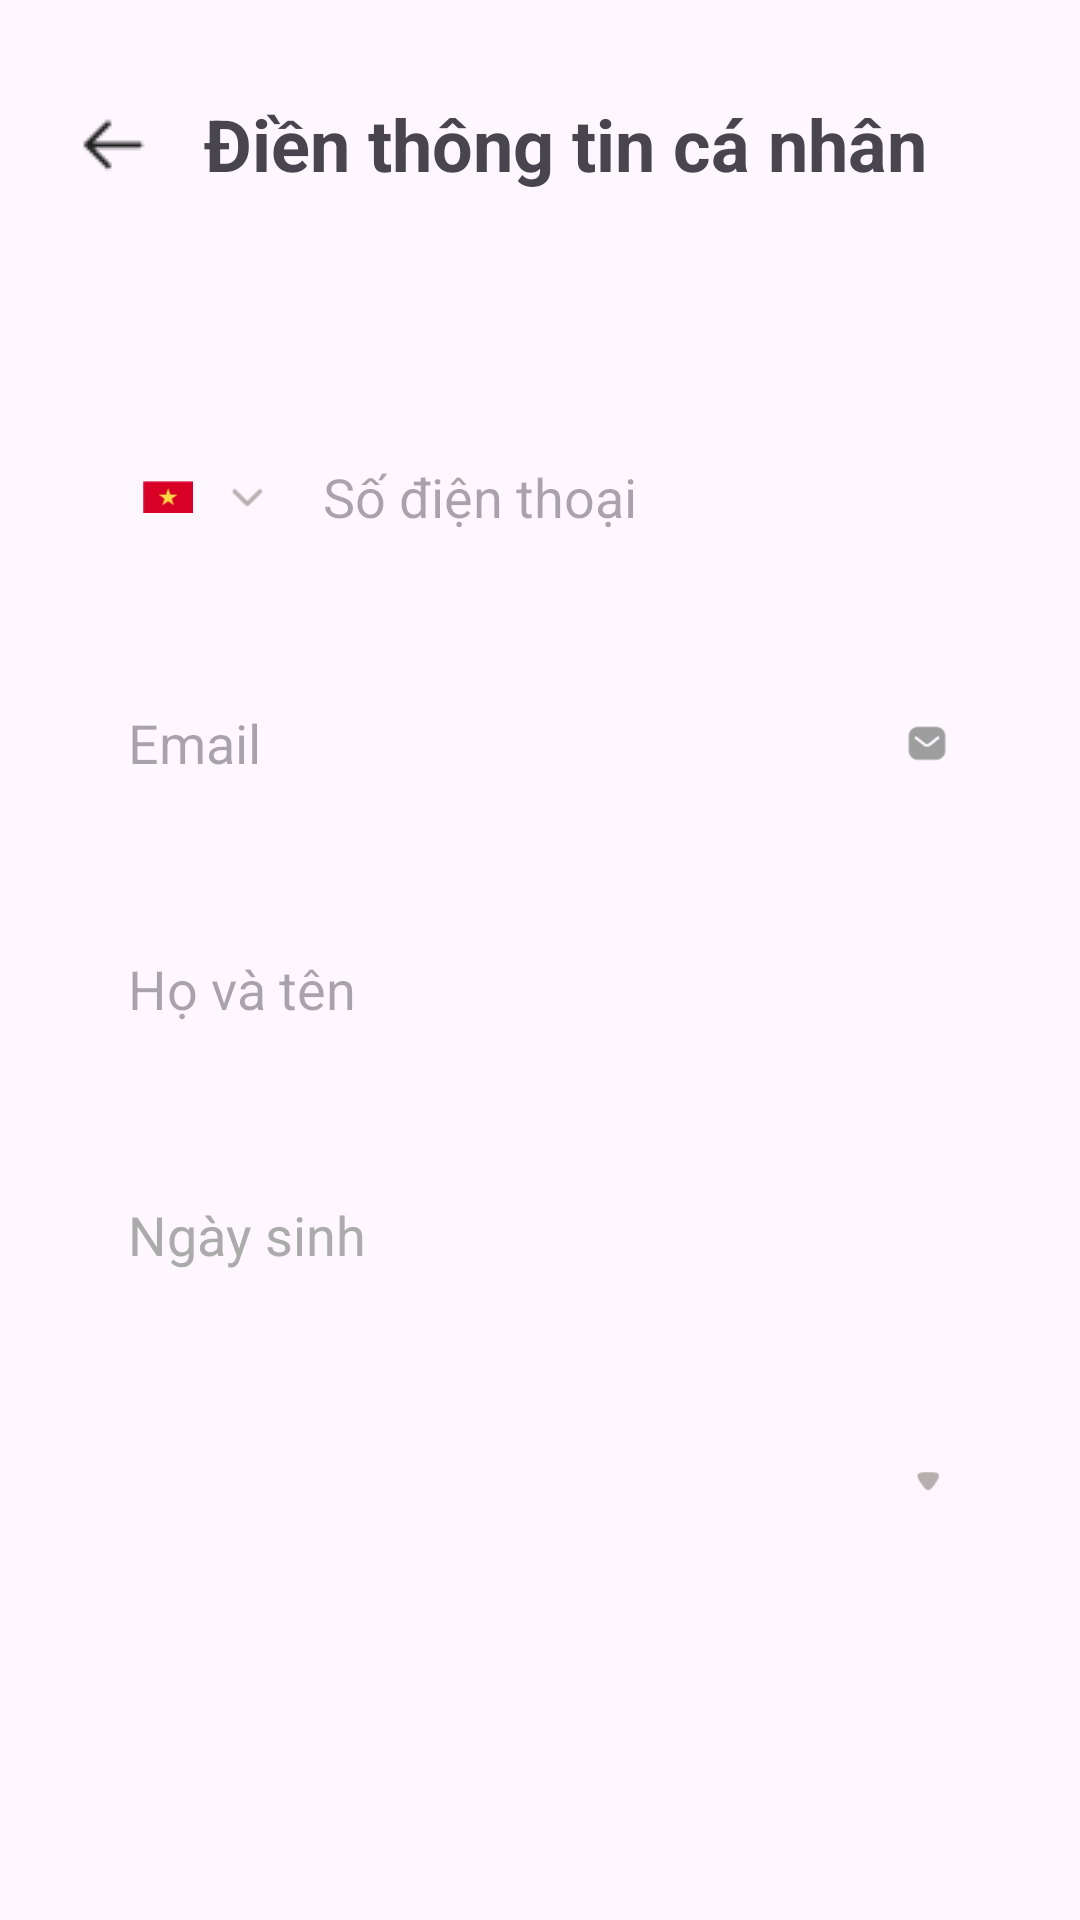

Icons on this 1080 x 1920 Android screen, each with its box as rect(x1, y1, x2, y2):
back: rect(83, 119, 144, 170)
vietnamese: rect(143, 481, 193, 513)
